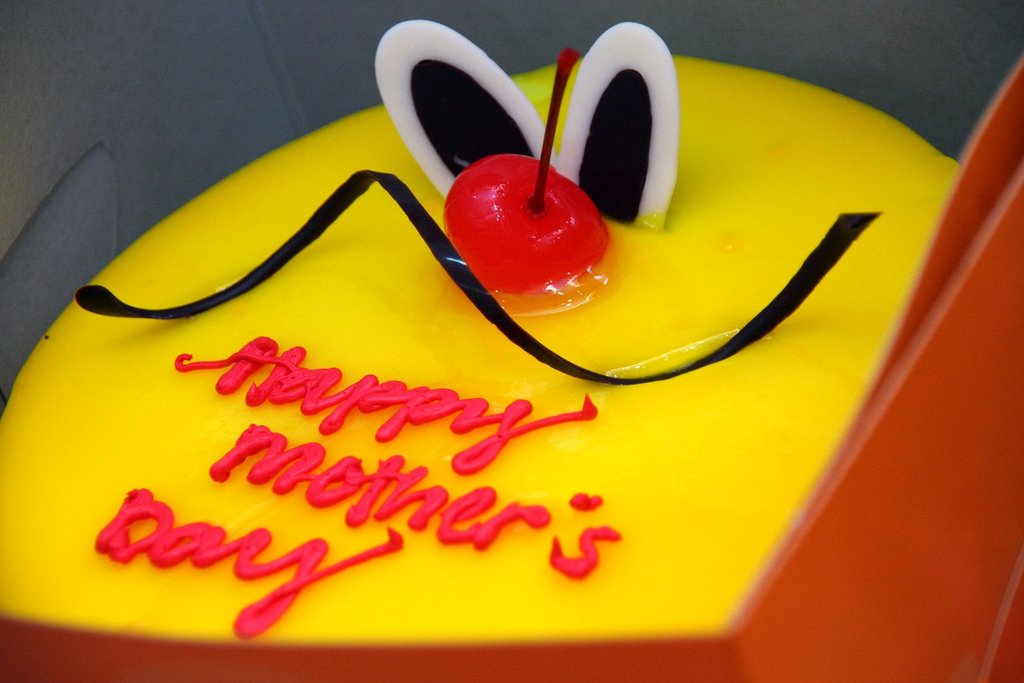cake: (0, 16, 964, 645)
